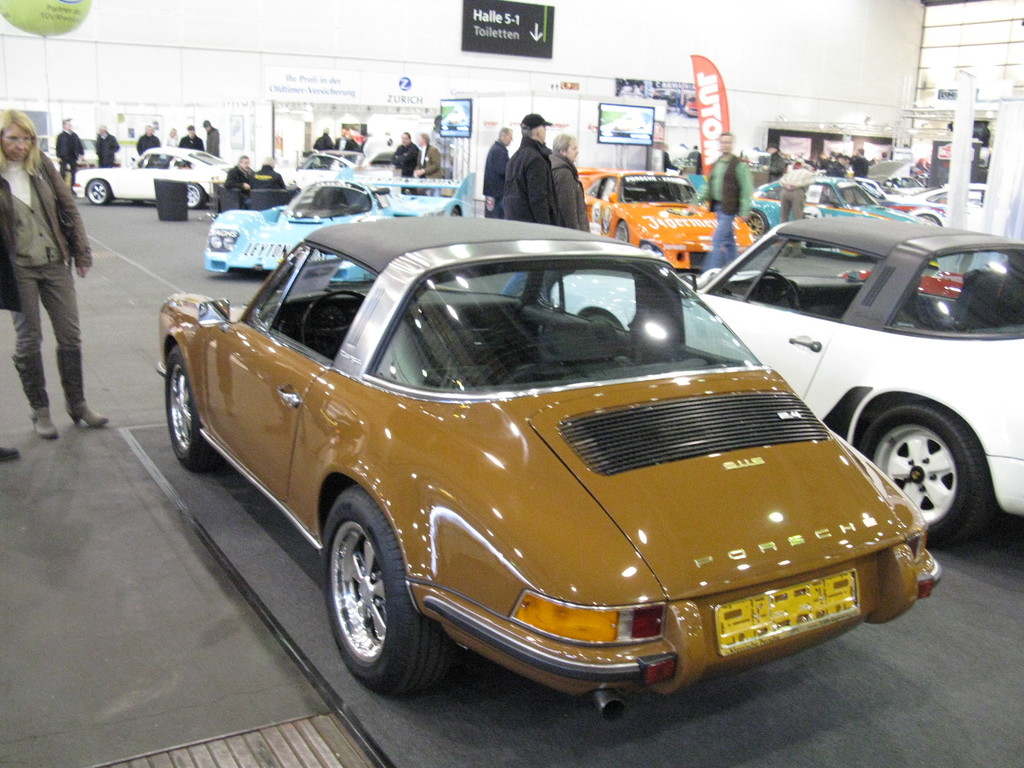mobil: (162, 216, 947, 705), (562, 164, 750, 271), (70, 145, 252, 206)
